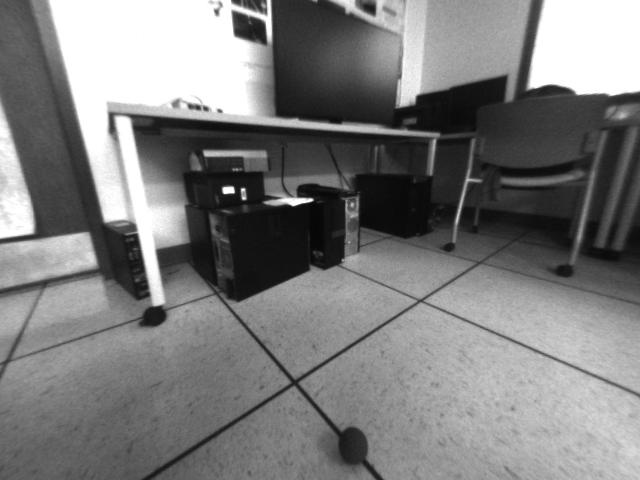dogtoy: (329, 418, 379, 470)
